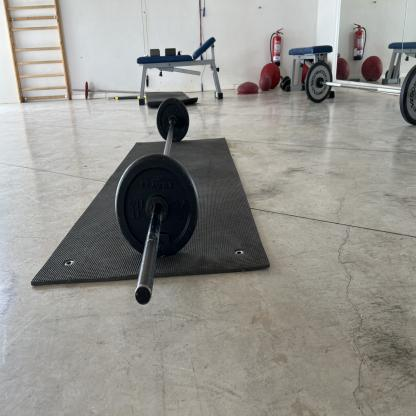barbell: (118, 154, 201, 260)
